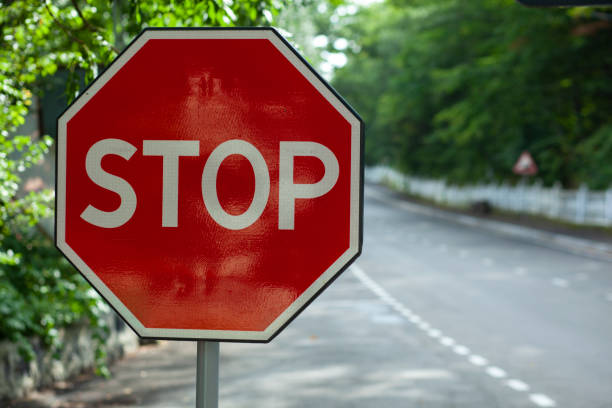Stop Signal: (45, 18, 379, 359)
